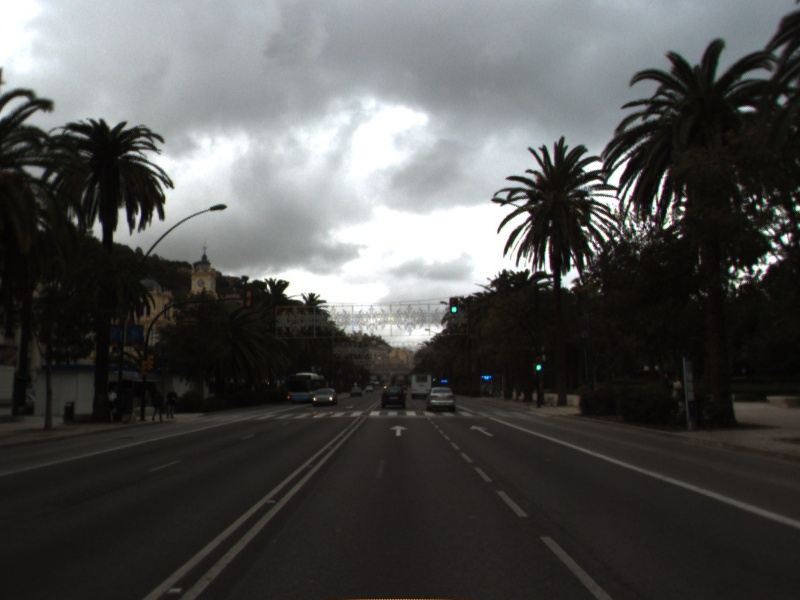STRAIGHT: (468, 423, 496, 439), (388, 423, 410, 438)
